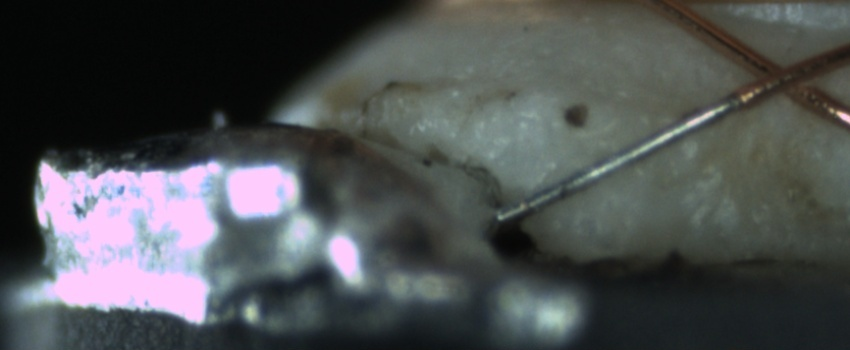CL: (731, 44, 825, 108)
TS: (495, 94, 741, 223)
